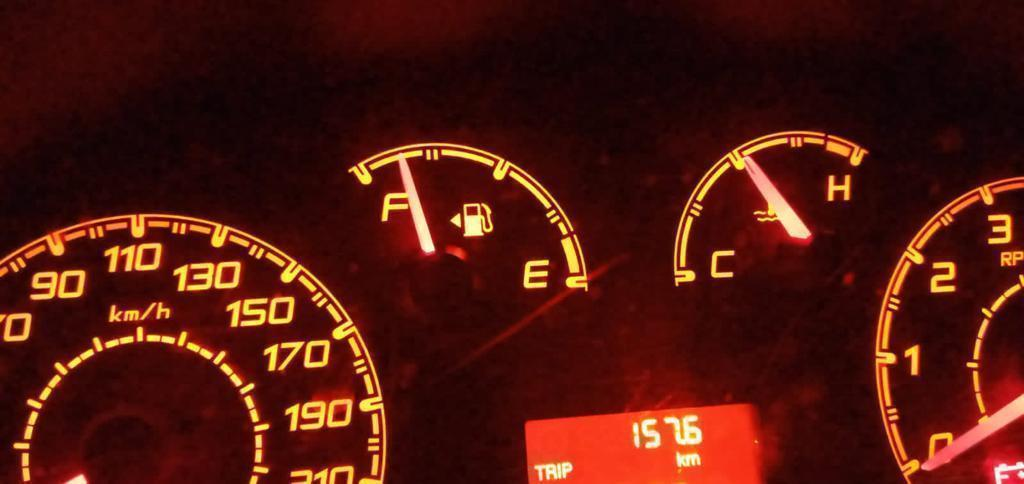,: (679, 437, 686, 448)
1: (631, 418, 639, 451)
5: (641, 417, 660, 449)
6: (683, 411, 703, 444)
7: (662, 415, 681, 444)
X: (685, 452, 701, 467), (562, 460, 574, 479), (545, 463, 557, 481), (533, 463, 544, 480), (675, 452, 685, 468), (556, 460, 561, 480)
odometer: (513, 397, 766, 484)
